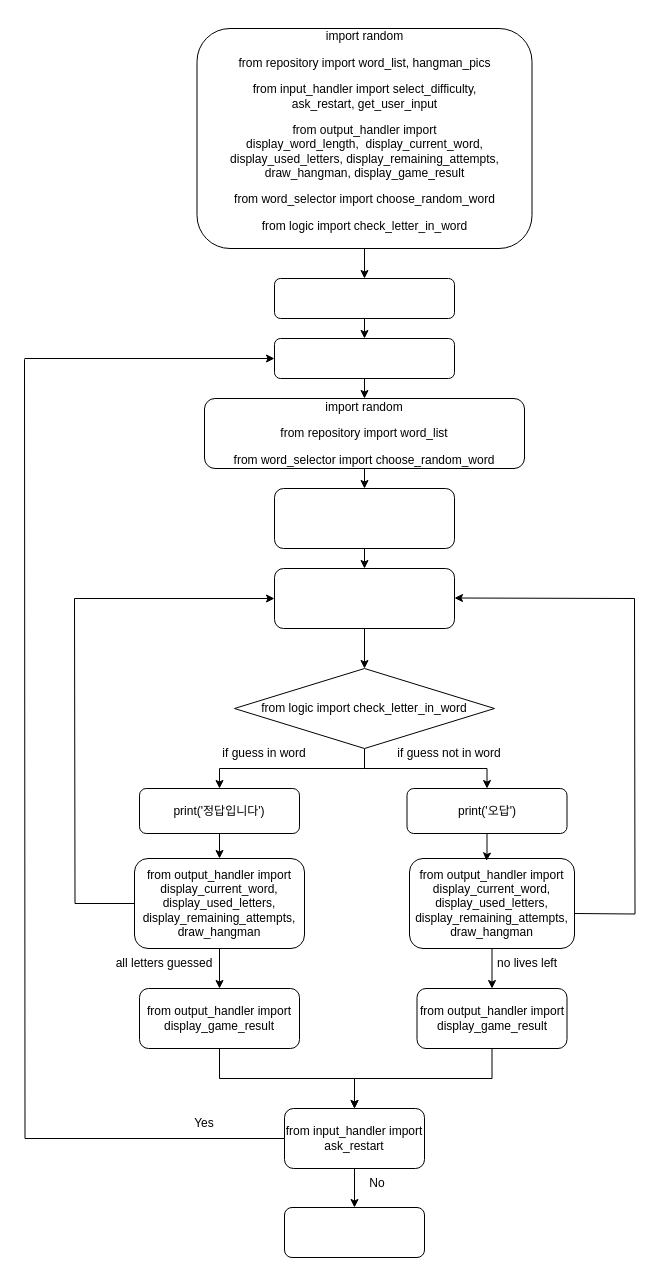
Some shapes in this 660 by 1275 pixel diagram are drawn without their labels. The box of each missing label's shape, as (x1, y1, x2, y2) in pixels:
from input_handler import get_user_input: (274, 568, 454, 628)
from input_handler import select_difficulty,: (274, 338, 454, 378)
from output_handler import display_word_length: (274, 488, 454, 548)
Program End: (284, 1206, 424, 1258)
Program Start: (274, 278, 454, 318)
